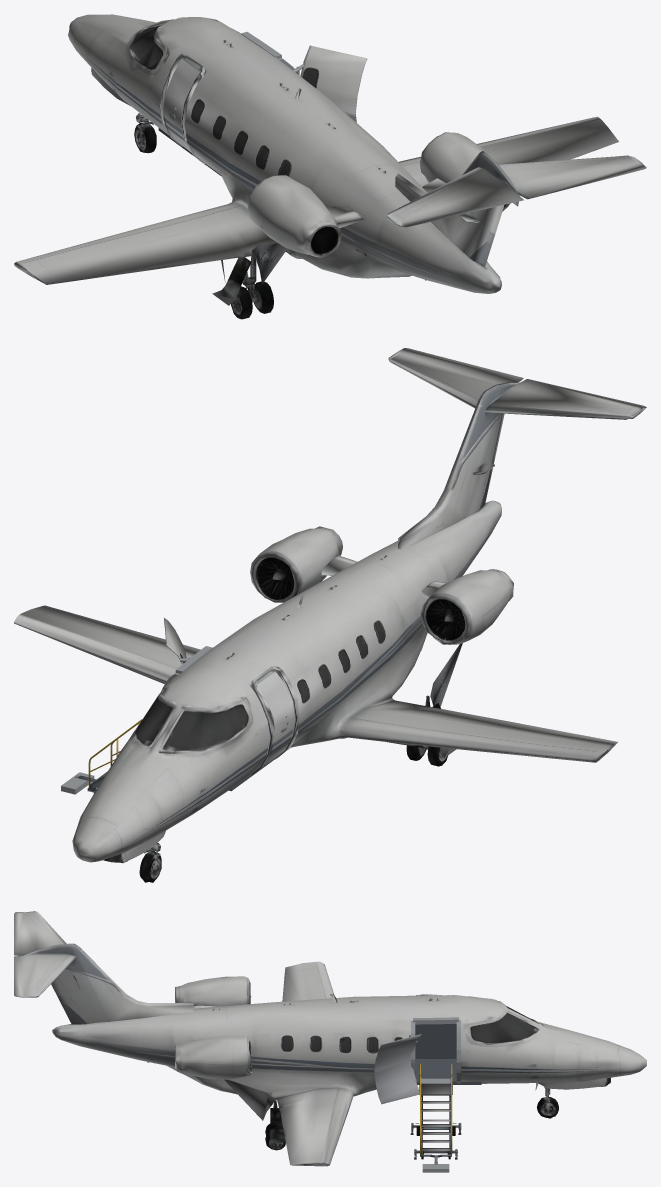
The model's file is operacao_flavio_boarding.glb.
3 renders of one model, top to bottom at view 1: azimuth 30°, elevation 25°; view 2: azimuth 150°, elevation 25°; view 3: azimuth 270°, elevation 25°, orthographic. The views are drawn at different scales.
Visible parts, largest first — view 1: GEO-boarding-plane, GEO-boarding-door; view 2: GEO-boarding-plane; view 3: GEO-boarding-plane, GEO-boarding-door, GEO-boarding-stairs, GEO-boarding-cabin-bulkhead, GEO-boarding-cabin-floor.
Part boxes in pixels (x1=…): GEO-boarding-plane: x1=14, y1=14, x2=646, y2=319; GEO-boarding-door: x1=300, y1=45, x2=367, y2=122; GEO-boarding-plane: x1=14, y1=348, x2=646, y2=882; GEO-boarding-plane: x1=14, y1=911, x2=646, y2=1166; GEO-boarding-door: x1=374, y1=1034, x2=421, y2=1104; GEO-boarding-stairs: x1=410, y1=1063, x2=461, y2=1164; GEO-boarding-cabin-bulkhead: x1=415, y1=1024, x2=456, y2=1058; GEO-boarding-cabin-floor: x1=415, y1=1059, x2=481, y2=1084.
Size of the model in its own units: 13.49 by 5.46 by 18.
Materials: 5 (2 with a texture image).
